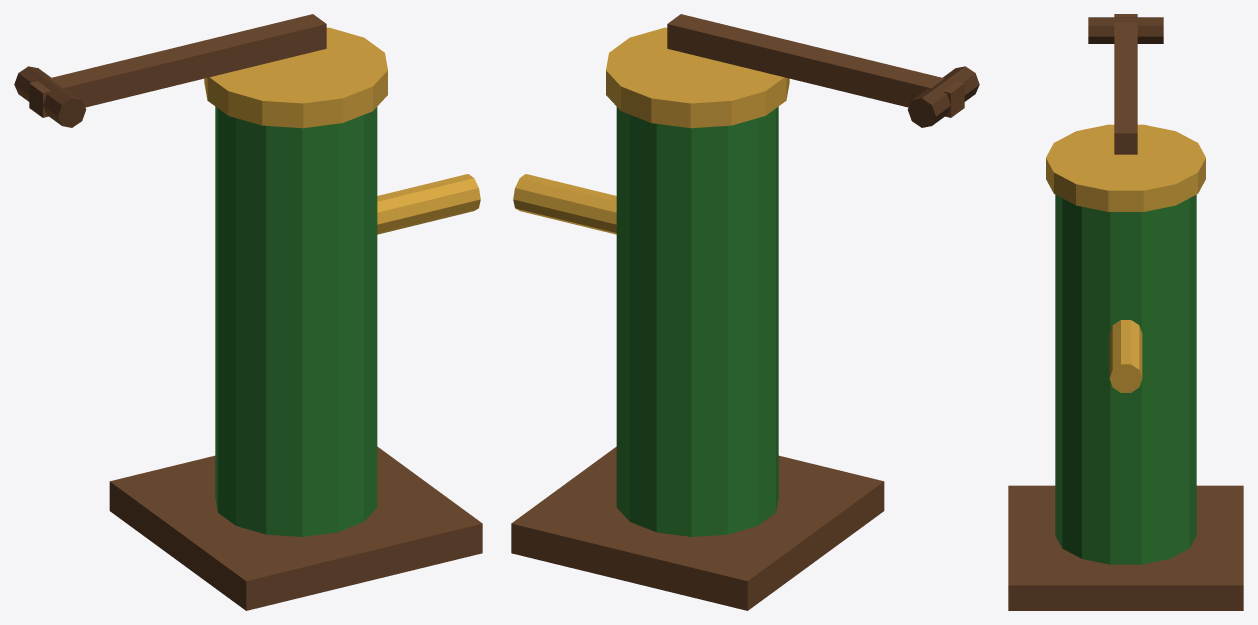
The model's file is BilgePump.glb.
The picture shows the model from 3 angles, left to right: view 1: azimuth 30°, elevation 25°; view 2: azimuth 150°, elevation 25°; view 3: azimuth 270°, elevation 25°; orthographic projection. The views are drawn at different scales.
Parts seen in each view (by area): view 1: BilgePump, Lever, Grip; view 2: BilgePump, Lever, Grip; view 3: BilgePump, Lever, Grip.
Boxes of the visible parts, x1=… form: BilgePump: x1=109, y1=27, x2=482, y2=610; Lever: x1=29, y1=14, x2=326, y2=117; Grip: x1=14, y1=66, x2=86, y2=127; BilgePump: x1=511, y1=27, x2=884, y2=610; Lever: x1=667, y1=14, x2=964, y2=117; Grip: x1=907, y1=66, x2=979, y2=127; BilgePump: x1=1008, y1=124, x2=1243, y2=610; Lever: x1=1114, y1=14, x2=1137, y2=154; Grip: x1=1088, y1=17, x2=1163, y2=43.
Bounding box in the file's own units: 0.92 × 1.03 × 0.5.
